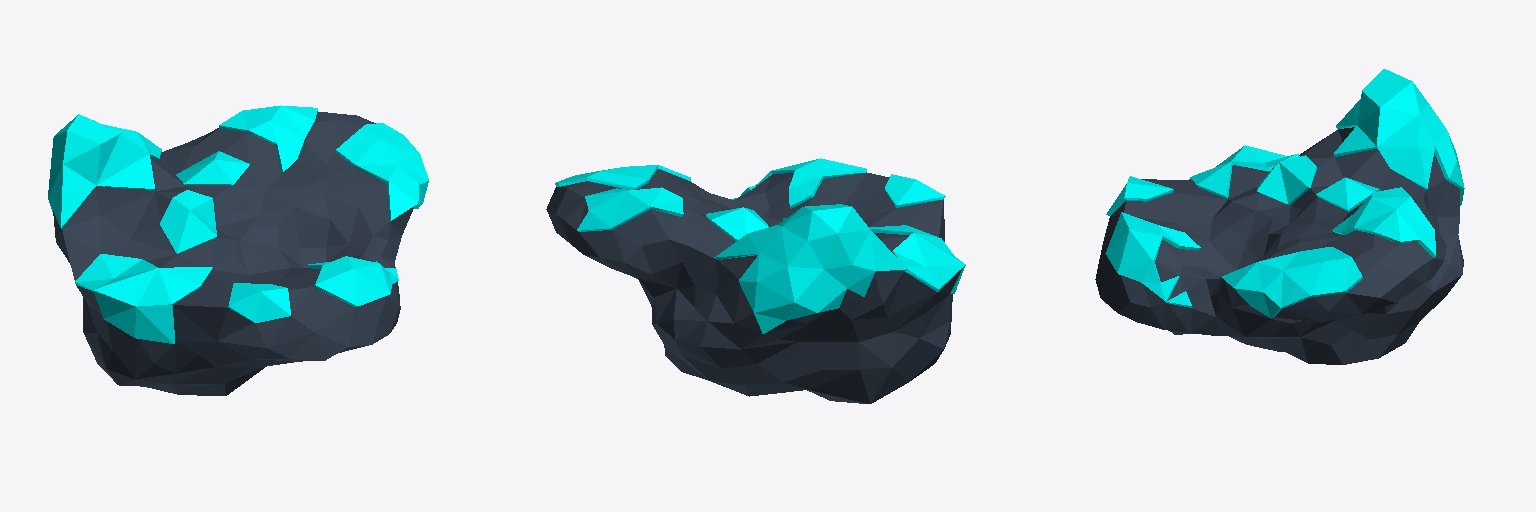
File: mountain_all.obj
3 views of the same model, side by side, from view 1: azimuth 30°, elevation 25°; view 2: azimuth 150°, elevation 25°; view 3: azimuth 270°, elevation 25° (orthographic).
Visible parts, largest first — view 1: Sphere, Sphere.002_Sphere.003, Sphere.001_Sphere.002; view 2: Sphere, Sphere.001_Sphere.002, Sphere.002_Sphere.003; view 3: Sphere, Sphere.002_Sphere.003, Sphere.001_Sphere.002.
Part boxes in pixels (x1,y1,x2,y2): Sphere: (53,111,414,395); Sphere.002_Sphere.003: (75,105,428,343); Sphere.001_Sphere.002: (48,114,161,228); Sphere: (546,169,962,403); Sphere.001_Sphere.002: (714,204,907,333); Sphere.002_Sphere.003: (555,158,965,293); Sphere: (1095,127,1463,364); Sphere.002_Sphere.003: (1105,145,1435,317); Sphere.001_Sphere.002: (1333,69,1464,205).
Size of the model in its own units: 2.93 by 1.87 by 2.59.